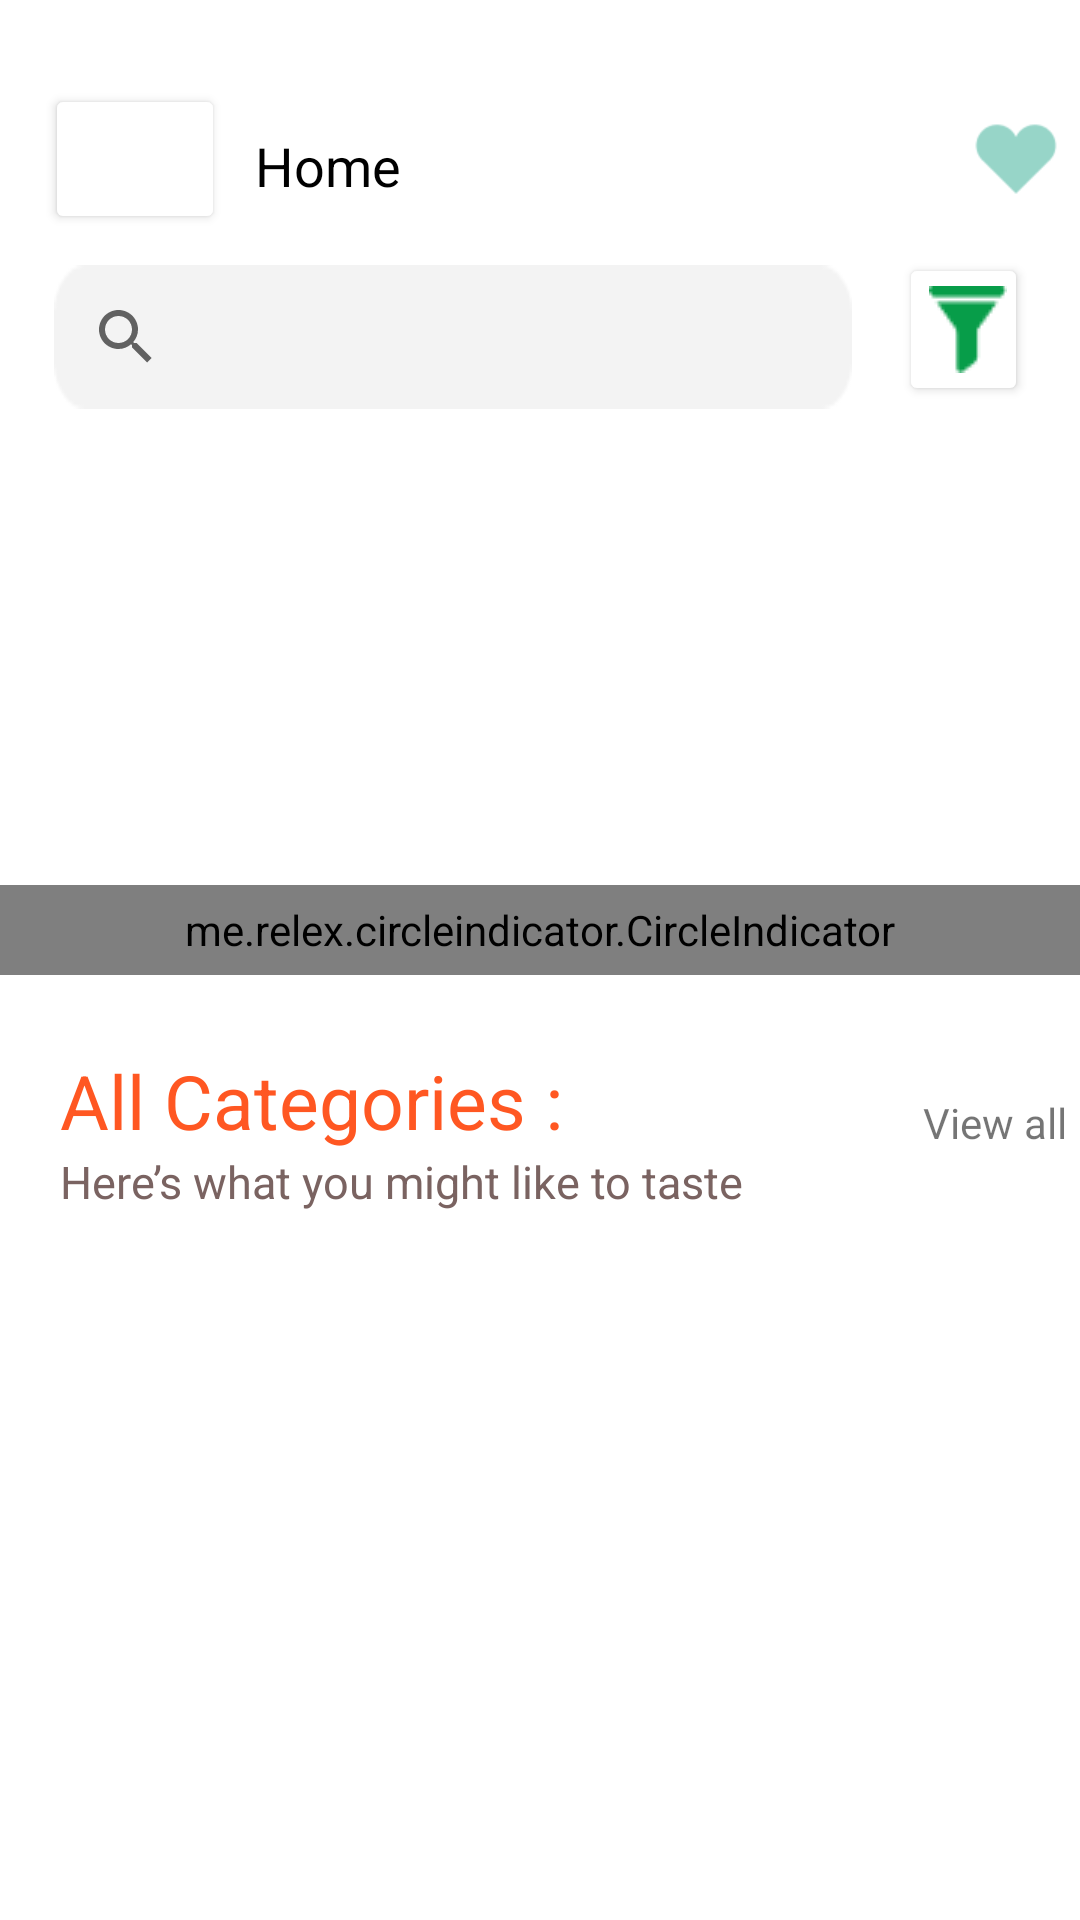

Screen size 1080*1920. Icon name, then its box in pixels as (x1, y1, x2, y2):
heart: (975, 124, 1056, 194)
